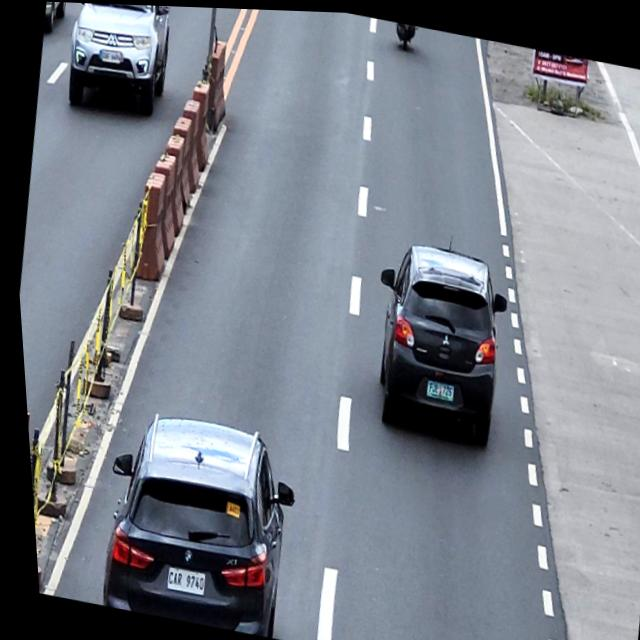Car: (81, 401, 305, 639), (350, 228, 518, 446), (57, 2, 182, 121)
License-Plate: (156, 562, 200, 595), (420, 376, 451, 399), (99, 46, 122, 64)
Motorcycle: (392, 19, 419, 50)
